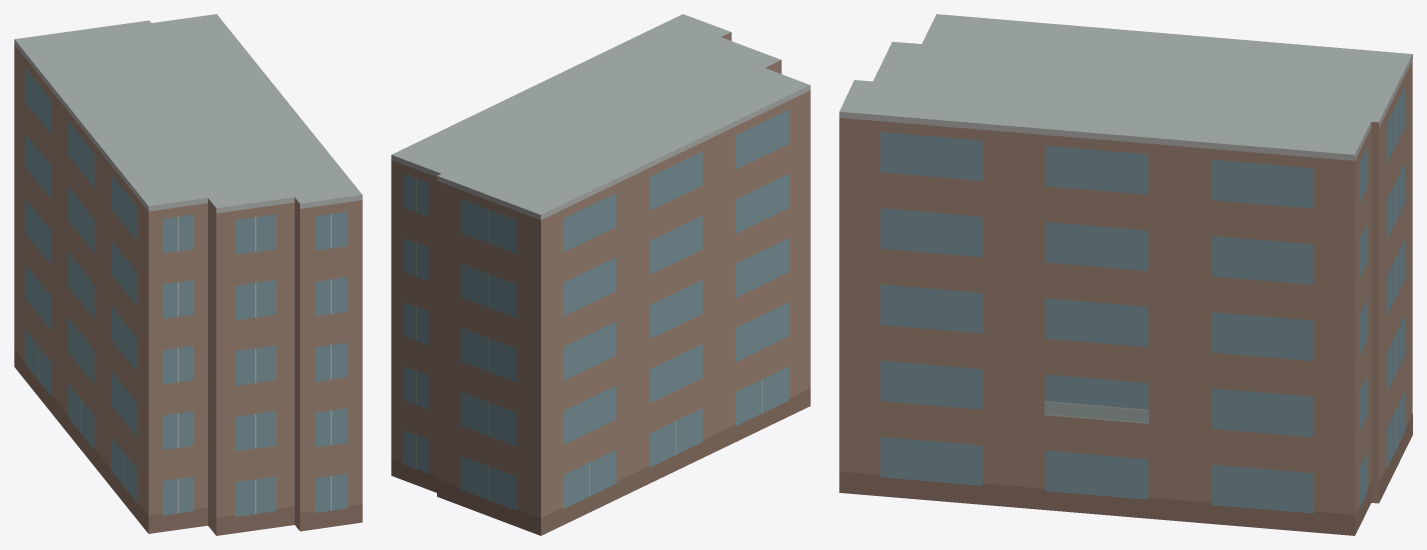
Rendered from survey-upis-32720048.glb.
3 views of the same model, side by side, from view 1: azimuth 30°, elevation 25°; view 2: azimuth 150°, elevation 25°; view 3: azimuth 270°, elevation 25° (orthographic). The views are drawn at different scales.
Parts seen in each view (by area): view 1: survey-upis-32720048.tmp; view 2: survey-upis-32720048.tmp; view 3: survey-upis-32720048.tmp.
Part boxes in pixels (x1,y1,x2,y2): survey-upis-32720048.tmp: (14,14,362,535); survey-upis-32720048.tmp: (391,14,810,535); survey-upis-32720048.tmp: (839,14,1412,535).
Bounding box in the file's own units: 12.14 × 15.3 × 20.88.
